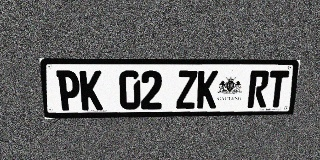0: (119, 70, 140, 110)
2: (141, 70, 162, 109)
K: (79, 70, 103, 110), (196, 70, 218, 109)
P: (56, 70, 81, 111)
R: (247, 70, 270, 108)
T: (266, 70, 289, 107)
Z: (176, 70, 197, 109)
